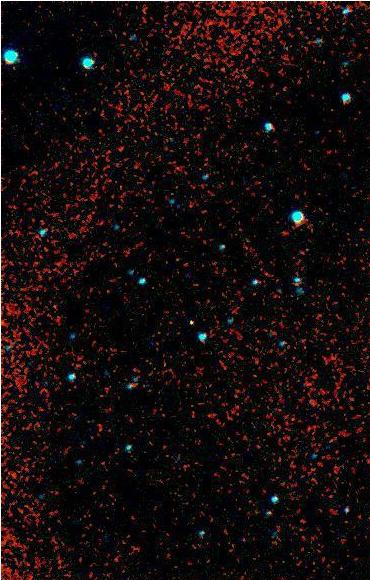star: (176, 306, 206, 336)
